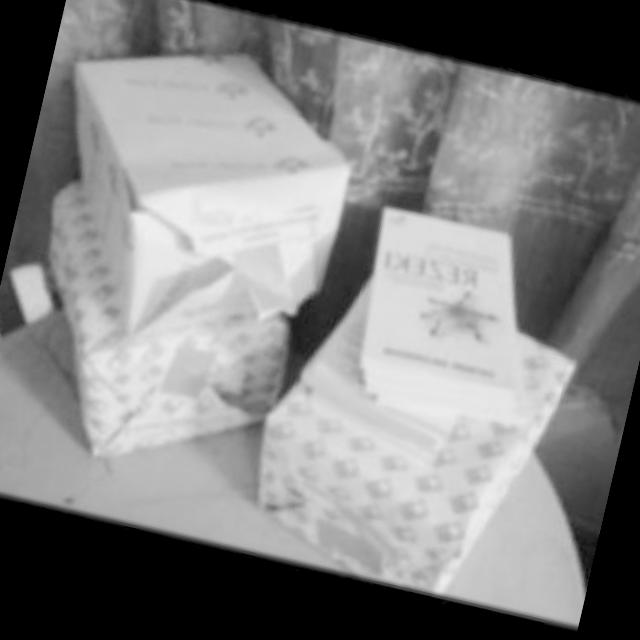box: (0, 150, 350, 538), (219, 258, 572, 618), (48, 26, 381, 356)
